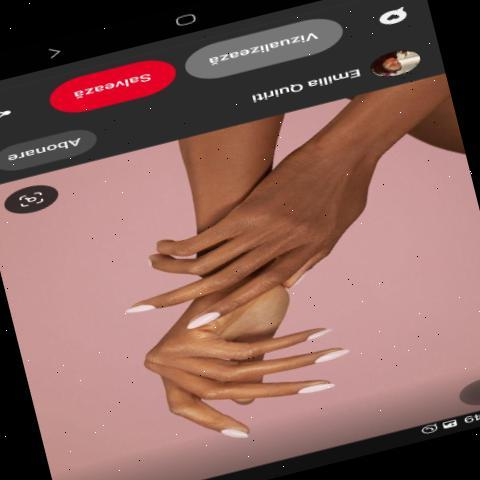Hands: (95, 139, 408, 311), (108, 303, 354, 451)
